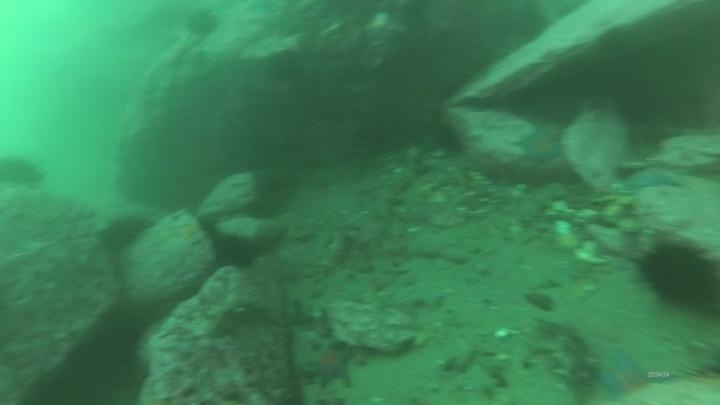echinus: (635, 235, 720, 318), (98, 212, 154, 253), (212, 232, 260, 272), (1, 151, 47, 190), (183, 7, 222, 41)
holothurian: (535, 318, 600, 404)
starfish: (593, 346, 653, 401), (299, 341, 359, 391), (514, 126, 567, 167), (623, 165, 688, 194), (167, 219, 207, 246)
